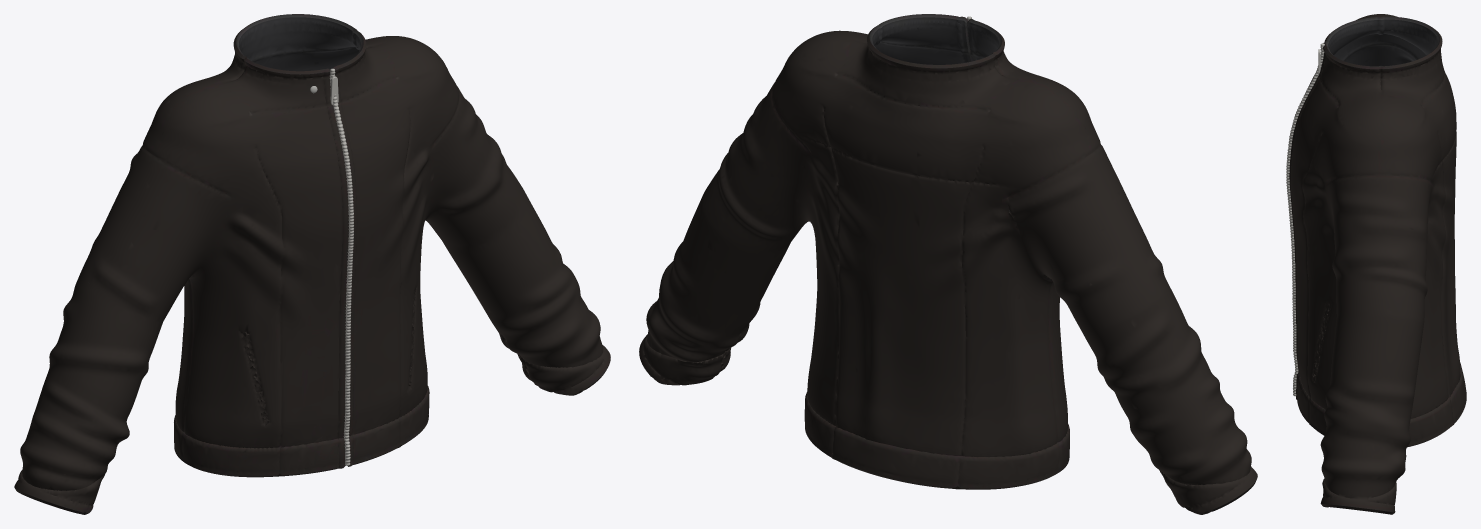
File: 04_chaqueta_piel_pbr.glb
3 renders of one model, left to right at view 1: azimuth 30°, elevation 25°; view 2: azimuth 150°, elevation 25°; view 3: azimuth 270°, elevation 25°, orthographic. The views are drawn at different scales.
Visible parts, largest first — view 1: Camiseta PBR, Cremallera; view 2: Camiseta PBR; view 3: Camiseta PBR, Cremallera.
Part boxes in pixels (x1=…): Camiseta PBR: x1=14, y1=14, x2=610, y2=514; Cremallera: x1=329, y1=68, x2=353, y2=465; Camiseta PBR: x1=639, y1=14, x2=1257, y2=514; Camiseta PBR: x1=1289, y1=14, x2=1466, y2=514; Cremallera: x1=1286, y1=43, x2=1324, y2=396.
Bounding box in the file's own units: 1.03 × 0.6624 × 0.3016.
3 materials, 1 textured.
